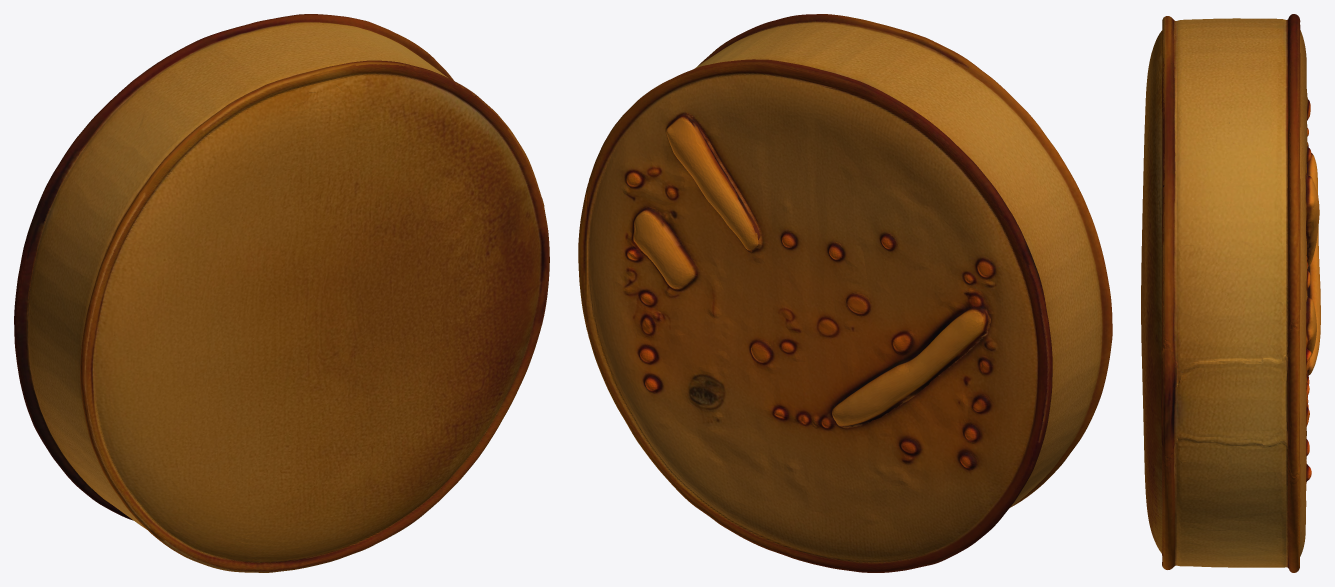
Rendered from product-farmhouse-throw-pillow-13-round-pillow-09.glb.
3 views of the same model, side by side, from view 1: azimuth 30°, elevation 25°; view 2: azimuth 150°, elevation 25°; view 3: azimuth 270°, elevation 25° (orthographic).
Visible parts, largest first — view 1: geometry_0; view 2: geometry_0; view 3: geometry_0.
Part boxes in pixels (left/top/right/bottom): geometry_0: left=14, top=14, right=549, bottom=572; geometry_0: left=578, top=14, right=1112, bottom=572; geometry_0: left=1141, top=14, right=1320, bottom=572.
Size of the model in its own units: 0.3302 by 0.3302 by 0.1078.
Materials: 1 (1 with a texture image).
